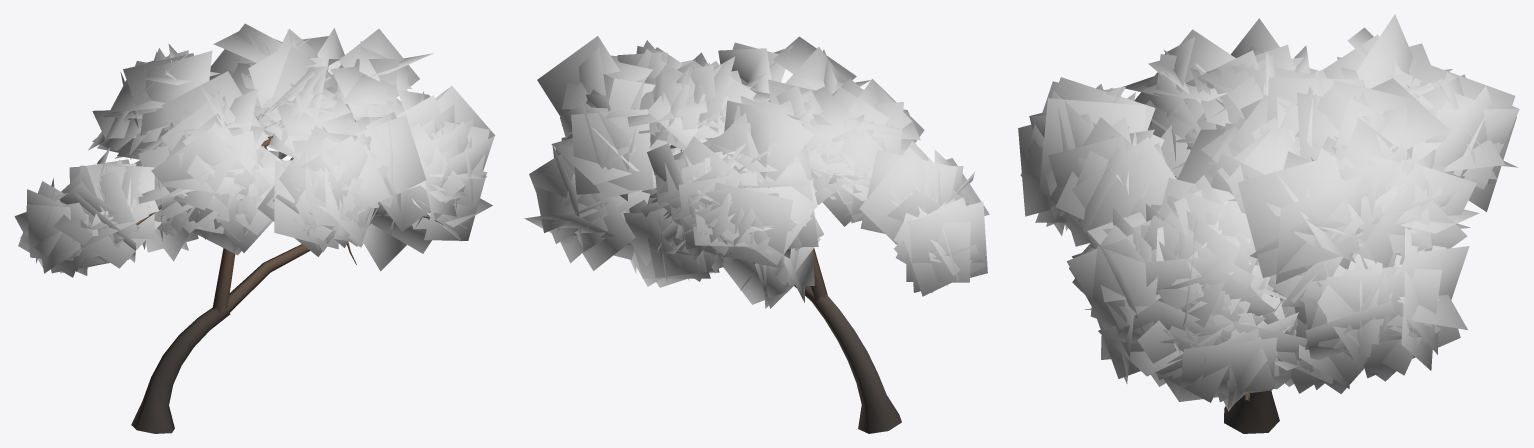
3 renders of one model, left to right at view 1: azimuth 30°, elevation 25°; view 2: azimuth 150°, elevation 25°; view 3: azimuth 270°, elevation 25°, orthographic. The views are drawn at different scales.
Parts seen in each view (by area): view 1: crown, trunk; view 2: crown, trunk; view 3: crown, trunk.
Part boxes in pixels (x1,y1,x2,y2): crown: (14,23,495,277); trunk: (131,135,443,433); crown: (524,36,989,308); trunk: (794,248,901,433); crown: (1018,14,1519,411); trunk: (1085,308,1279,433).
Bounding box in the file's own units: 12.68 × 9.55 × 9.78.
